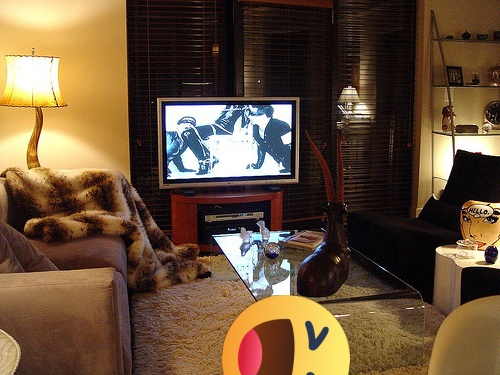haha: (222, 295, 350, 375)
